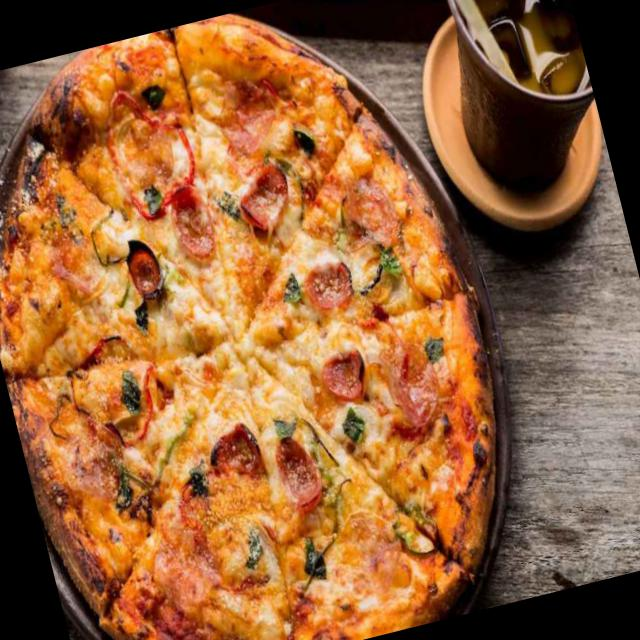pizza: (0, 0, 547, 639)
